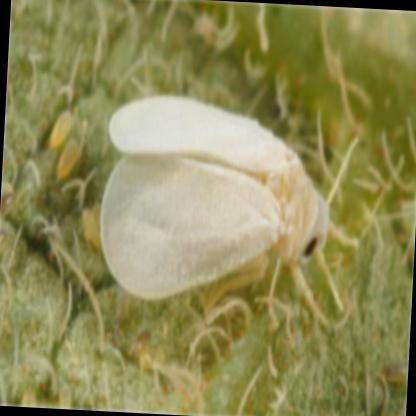whitefly: (100, 94, 330, 295)
